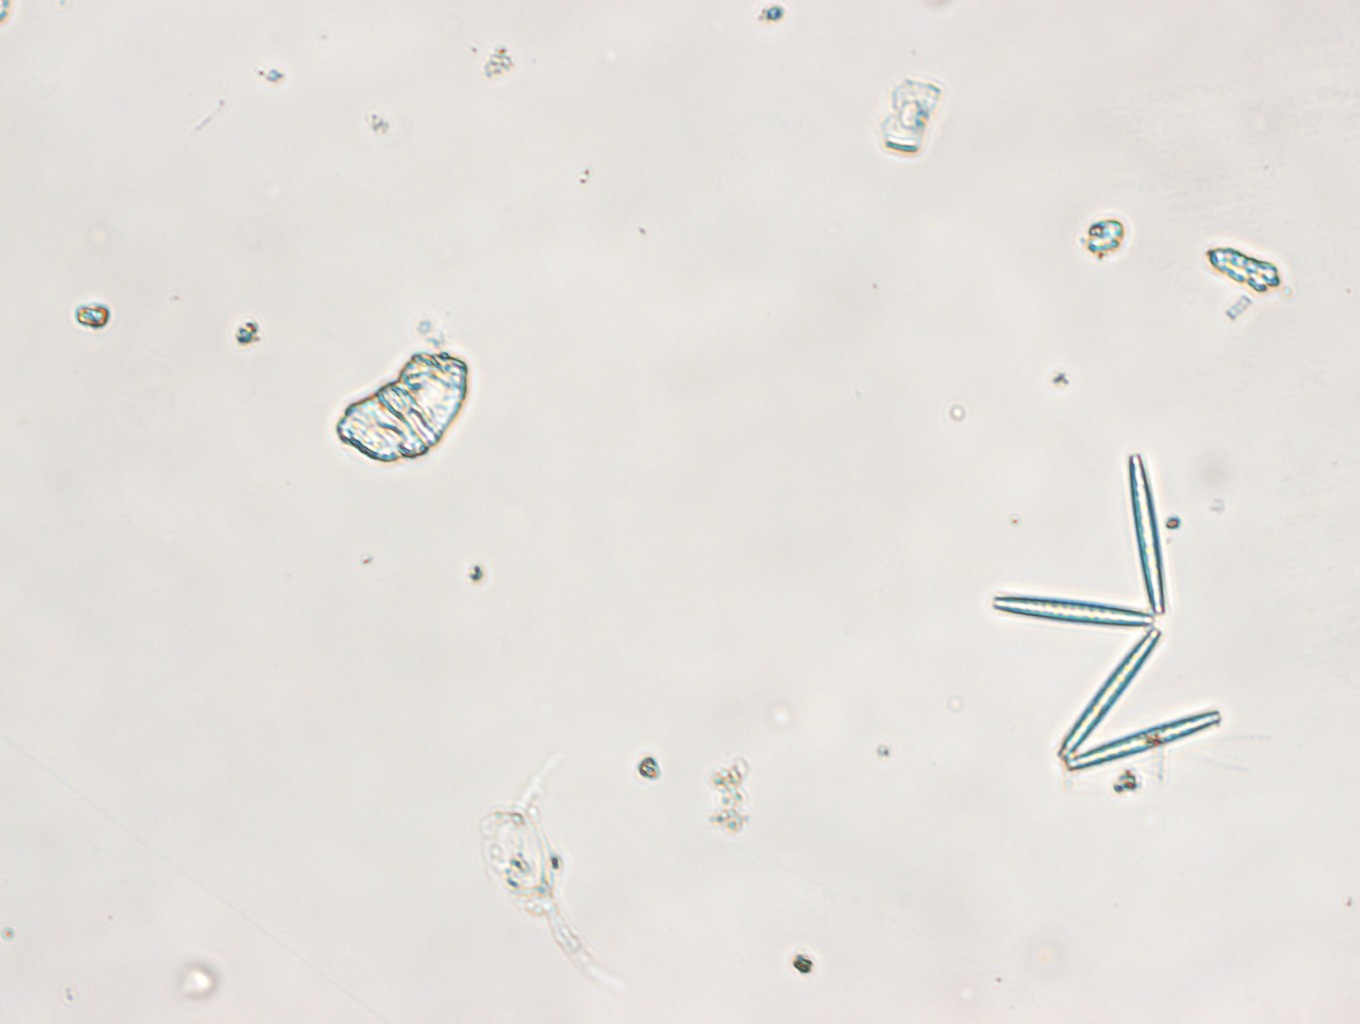thalassionema nitzschioides: (987, 446, 1232, 776)
